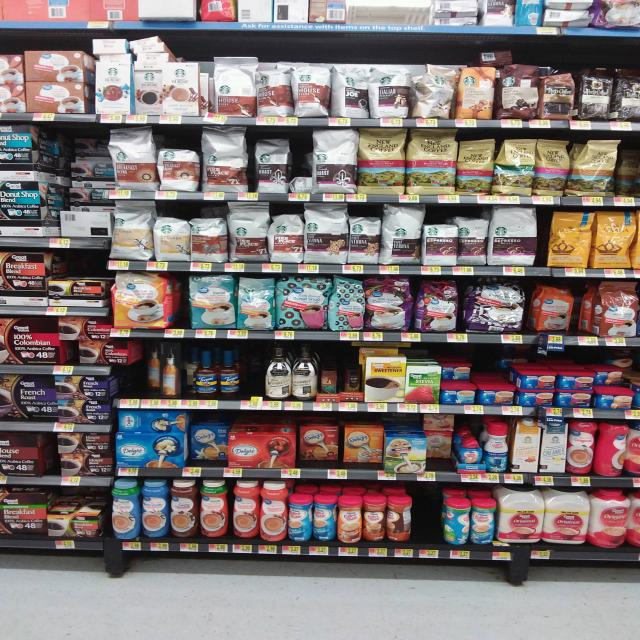unorganised: (494, 137, 637, 194), (255, 67, 369, 117), (297, 414, 382, 470), (58, 319, 143, 366), (524, 282, 589, 332), (413, 63, 459, 118), (89, 34, 174, 60), (109, 211, 154, 259), (592, 418, 627, 478), (458, 139, 496, 193), (188, 417, 229, 467), (330, 277, 366, 331), (424, 413, 453, 471), (132, 61, 161, 113), (136, 342, 161, 398), (443, 496, 471, 545), (384, 495, 413, 541), (311, 493, 337, 541), (219, 348, 239, 397), (474, 50, 517, 67)
